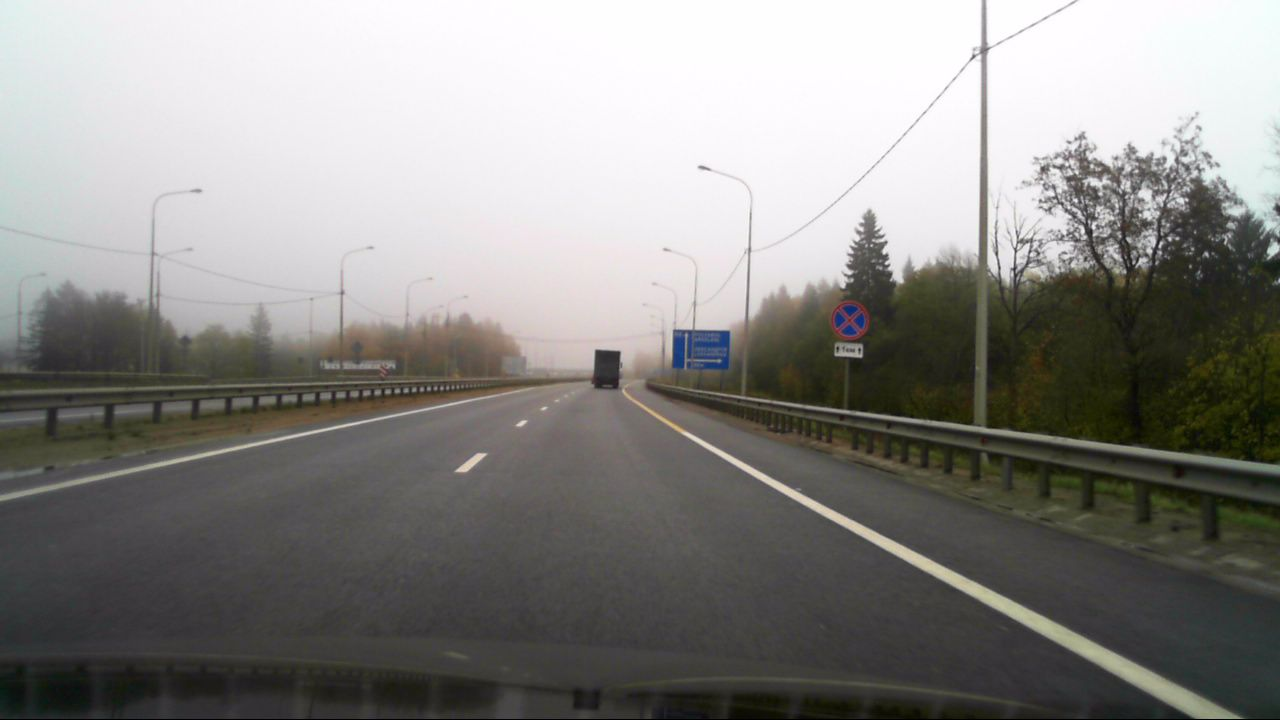No Parking: (830, 301, 867, 338)
